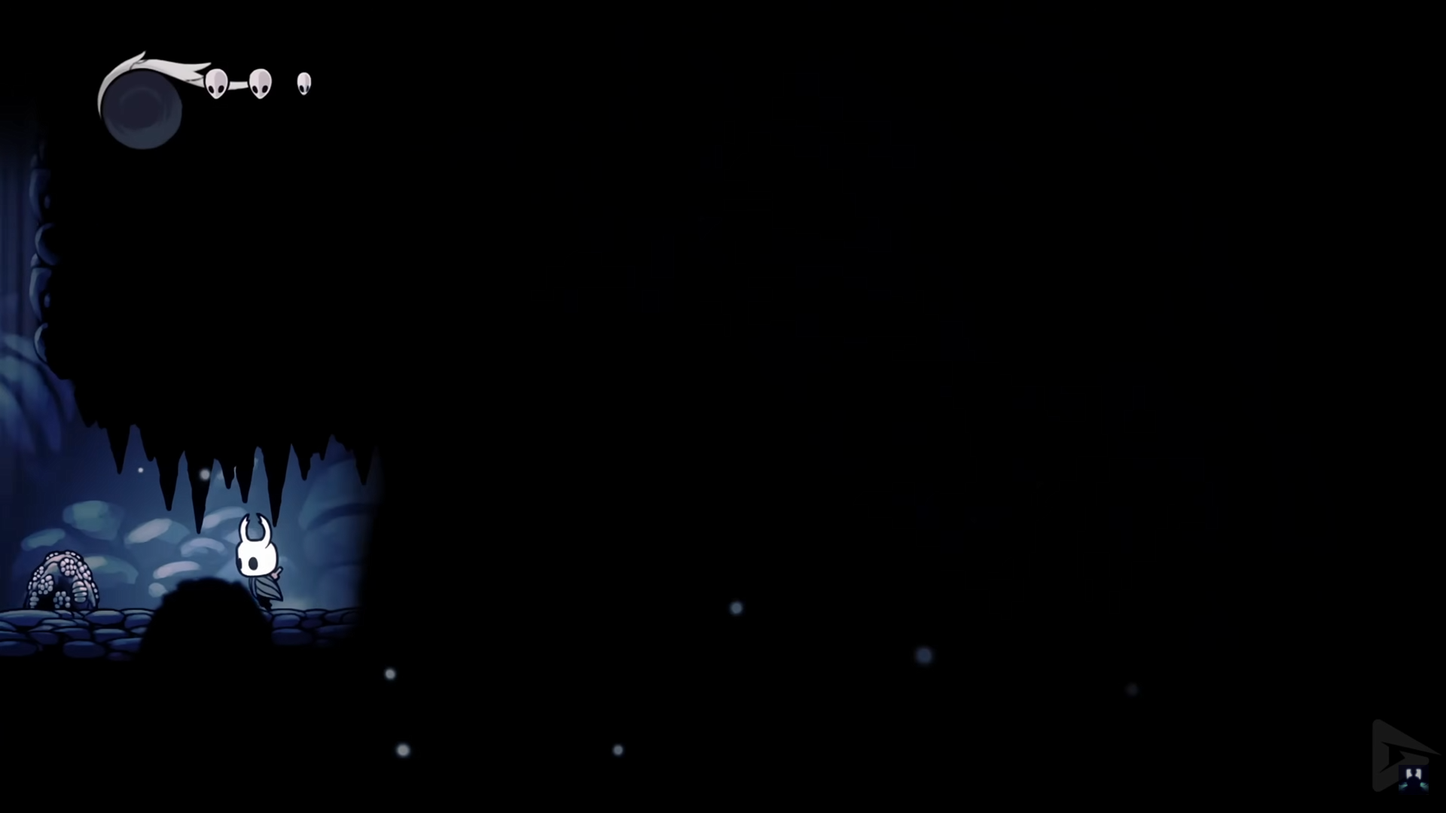HK: (230, 512, 286, 613)
